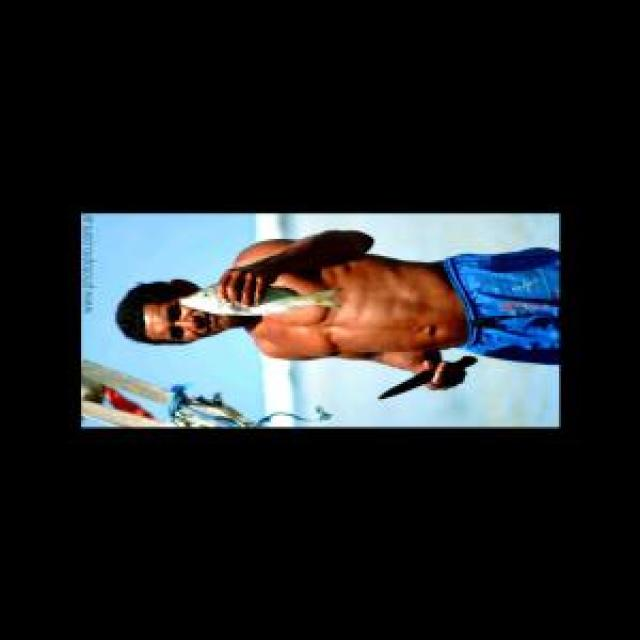knife: (372, 350, 486, 406)
